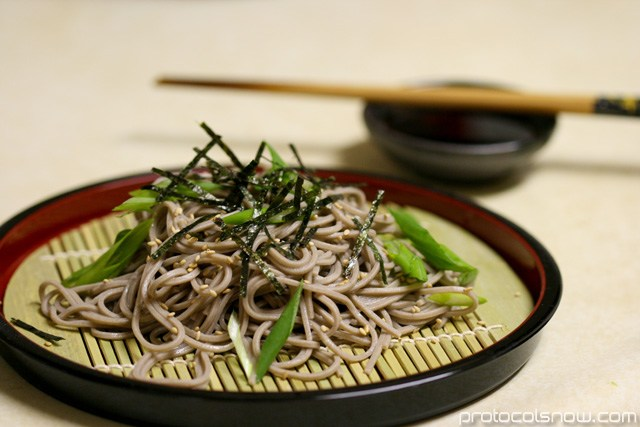Soba: (50, 158, 495, 377)
